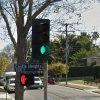Traffic light: (18, 15, 58, 88)
